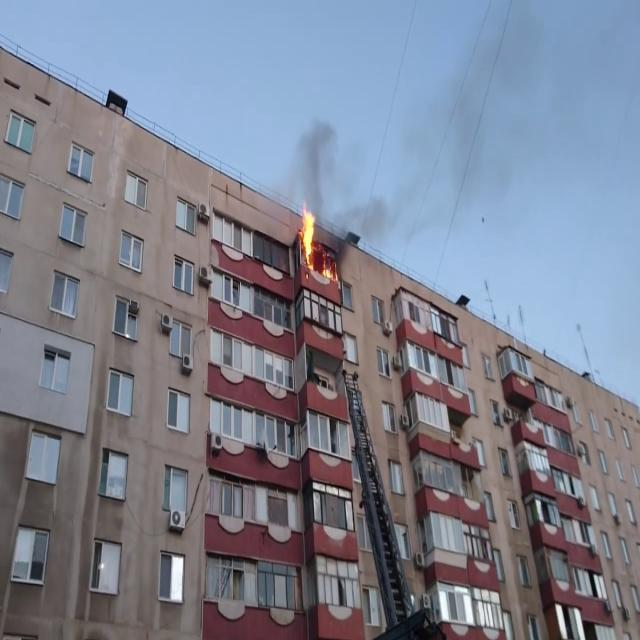Fire: (296, 202, 320, 273)
Smoke: (286, 115, 344, 212)
